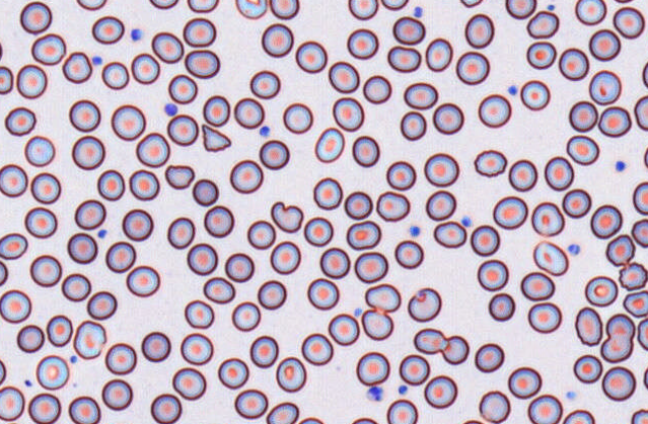PLT: (366, 385, 386, 403), (163, 102, 180, 117), (129, 26, 144, 41), (567, 242, 582, 257), (614, 159, 628, 173), (258, 124, 270, 138), (409, 224, 421, 238), (398, 383, 410, 396), (90, 54, 104, 65), (462, 214, 473, 228), (507, 84, 518, 97), (412, 6, 423, 19), (96, 228, 108, 239), (68, 355, 79, 364), (546, 4, 555, 11)
RBC: (600, 313, 635, 362), (532, 240, 568, 276), (73, 320, 106, 359), (601, 365, 636, 401), (423, 152, 459, 187), (110, 104, 145, 140), (355, 351, 390, 386), (135, 132, 170, 167), (35, 354, 69, 390), (492, 195, 528, 229), (407, 287, 441, 322), (455, 50, 489, 85), (71, 135, 105, 170), (477, 93, 511, 128), (588, 69, 621, 105), (423, 374, 457, 408), (229, 159, 263, 193), (531, 201, 564, 236), (30, 33, 66, 65), (172, 367, 206, 400), (574, 306, 602, 346), (590, 204, 622, 239), (125, 265, 160, 297), (332, 96, 364, 131), (275, 356, 306, 392), (16, 63, 47, 99), (314, 126, 344, 163), (306, 277, 339, 310), (19, 1, 52, 34), (180, 332, 213, 365), (68, 99, 101, 132), (612, 6, 645, 39), (507, 366, 541, 398), (527, 301, 561, 333), (354, 251, 388, 283), (261, 23, 293, 57), (543, 155, 574, 190), (375, 190, 410, 221), (364, 283, 401, 312), (478, 390, 510, 423), (301, 332, 333, 365), (121, 208, 153, 241), (104, 342, 136, 375), (29, 254, 61, 287), (166, 113, 198, 146), (295, 40, 327, 73), (24, 206, 57, 238), (588, 28, 620, 61), (584, 275, 618, 306), (0, 289, 31, 323), (234, 388, 268, 419), (269, 240, 300, 274), (527, 393, 562, 423), (464, 13, 494, 48), (346, 220, 381, 250), (184, 49, 220, 78), (217, 357, 249, 389), (361, 308, 393, 340), (327, 313, 359, 345), (101, 378, 133, 410), (432, 102, 464, 134), (151, 31, 183, 63), (186, 242, 217, 275), (203, 204, 234, 237), (28, 392, 61, 423), (558, 47, 589, 80), (328, 60, 359, 93), (566, 134, 599, 165), (598, 106, 631, 137), (520, 271, 554, 301), (182, 17, 216, 47), (398, 353, 429, 385), (477, 259, 508, 291), (346, 28, 378, 59), (105, 240, 136, 272), (30, 172, 61, 204), (282, 102, 313, 134), (74, 199, 106, 230), (233, 97, 264, 129), (605, 233, 635, 266), (392, 15, 425, 45), (403, 81, 438, 109), (319, 247, 350, 278), (128, 169, 159, 200), (425, 189, 456, 220), (24, 135, 55, 166), (150, 393, 182, 423), (470, 224, 500, 256), (312, 177, 342, 209), (4, 106, 36, 136), (62, 51, 92, 83), (67, 232, 97, 264), (568, 100, 598, 132), (249, 335, 278, 368), (526, 10, 559, 39), (91, 15, 124, 44), (0, 163, 28, 197), (249, 69, 280, 99), (167, 73, 197, 104), (385, 160, 416, 190), (86, 290, 117, 320), (141, 331, 171, 362), (520, 79, 550, 110), (508, 159, 537, 191), (131, 52, 160, 84), (433, 220, 466, 248), (167, 216, 195, 249), (68, 395, 101, 423), (202, 94, 230, 127), (473, 149, 506, 177), (425, 37, 452, 71), (387, 45, 421, 72), (0, 385, 25, 421), (474, 342, 504, 372), (224, 252, 254, 282), (303, 216, 333, 246), (259, 139, 289, 169), (203, 276, 235, 304), (351, 135, 379, 167), (413, 327, 446, 354), (46, 314, 73, 347), (257, 279, 286, 309), (231, 301, 260, 331), (61, 272, 91, 301), (246, 219, 275, 249), (562, 188, 591, 218), (394, 239, 423, 269), (184, 299, 214, 328), (362, 74, 391, 104), (526, 40, 556, 69), (97, 169, 125, 200), (618, 261, 647, 290), (440, 335, 469, 364), (573, 354, 602, 383), (344, 190, 372, 219), (399, 110, 426, 140), (386, 398, 418, 423), (574, 0, 606, 25), (16, 324, 44, 352), (101, 61, 129, 89), (488, 292, 515, 321), (164, 164, 194, 189), (0, 232, 27, 259), (192, 178, 218, 206), (266, 401, 298, 423), (622, 290, 647, 318), (235, 0, 267, 19), (348, 0, 378, 20), (505, 0, 536, 19), (269, 0, 299, 19), (632, 181, 647, 215), (631, 218, 647, 247), (634, 95, 647, 130), (562, 409, 594, 423), (187, 0, 219, 13), (0, 65, 13, 94), (636, 317, 647, 350), (76, 0, 107, 10), (381, 0, 408, 10), (149, 0, 178, 9), (630, 408, 647, 423), (0, 259, 8, 285), (459, 0, 483, 8), (351, 416, 378, 423), (297, 416, 324, 423), (641, 61, 647, 88), (0, 359, 6, 384), (643, 145, 648, 168), (643, 366, 648, 389), (460, 419, 483, 423), (613, 0, 634, 3)
Schistocyte: (271, 201, 305, 234), (201, 123, 233, 153)
